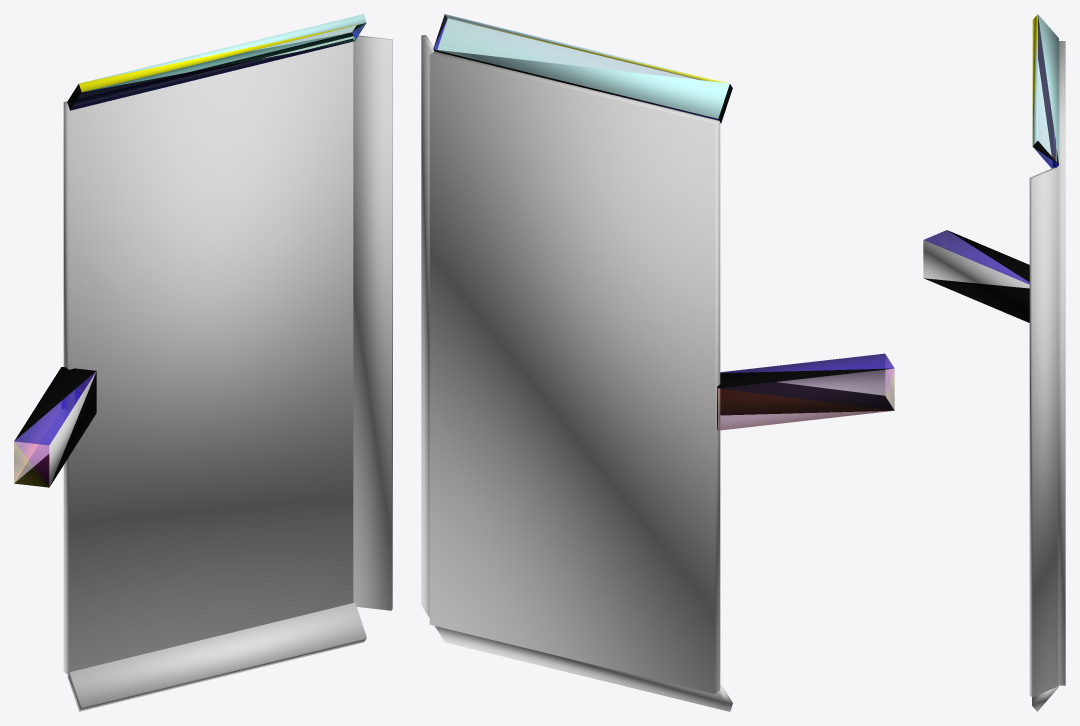
File: transfer_plate.obj
The picture shows the model from 3 angles, left to right: view 1: azimuth 30°, elevation 25°; view 2: azimuth 150°, elevation 25°; view 3: azimuth 270°, elevation 25°; orthographic projection. The views are drawn at different scales.
Bounding box in the file's own units: 0.148 × 0.2085 × 0.047.
